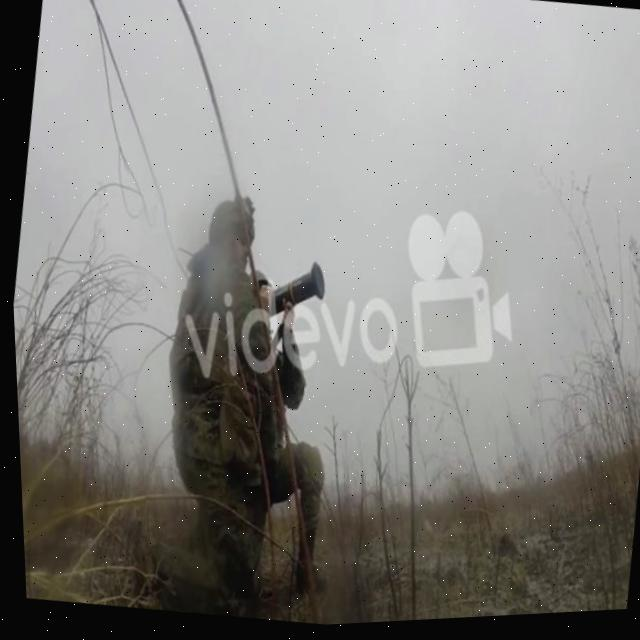rocket: (250, 252, 330, 328)
